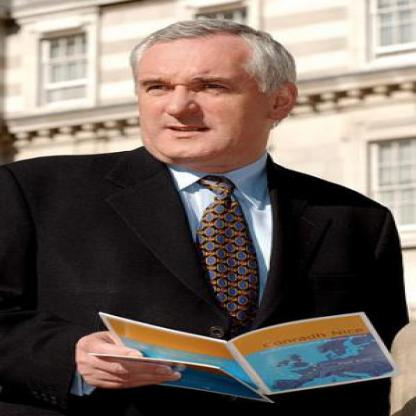face: (127, 23, 276, 168)
